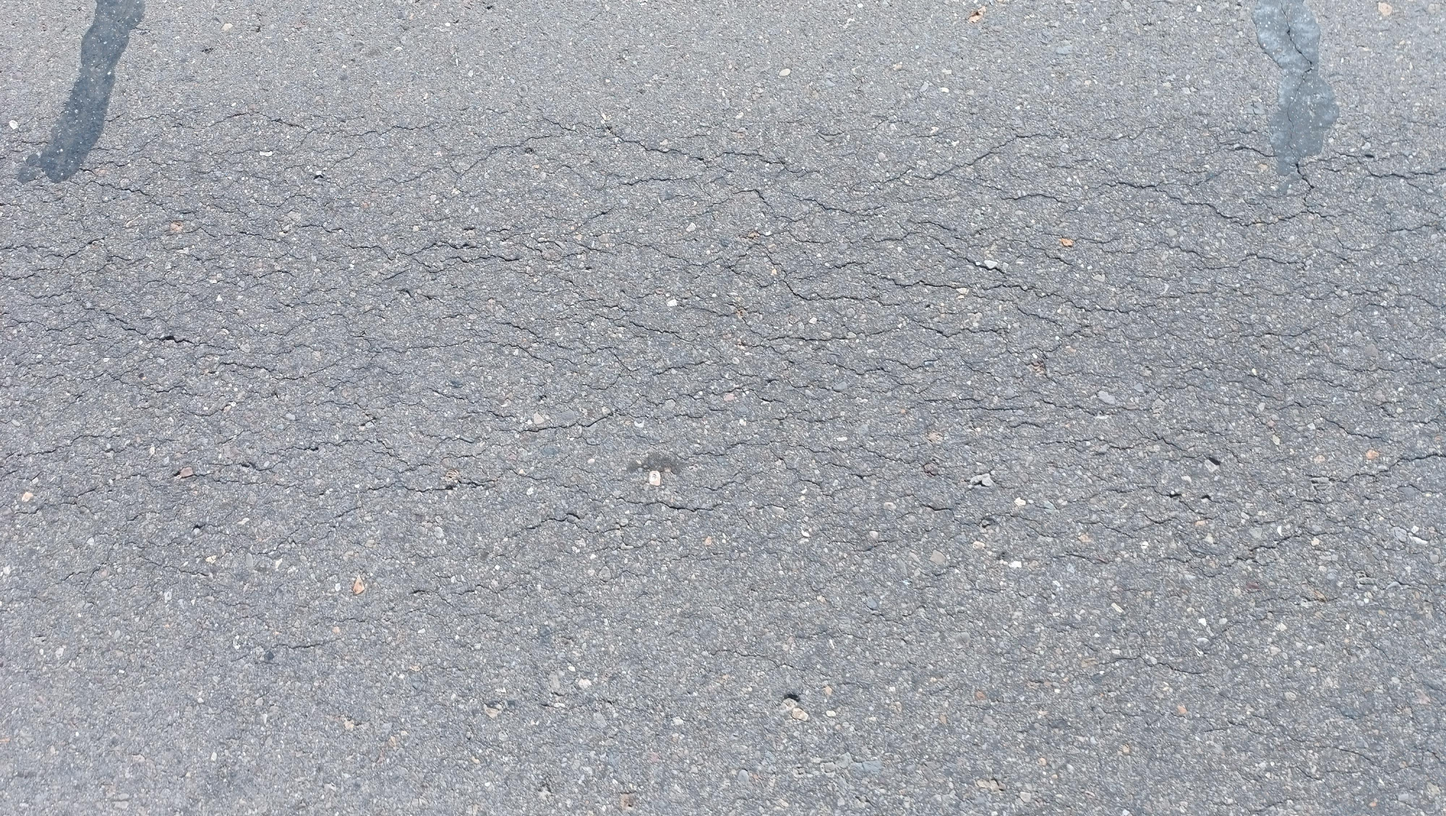PIEL DE COCODRILO: (0, 105, 1446, 588)
